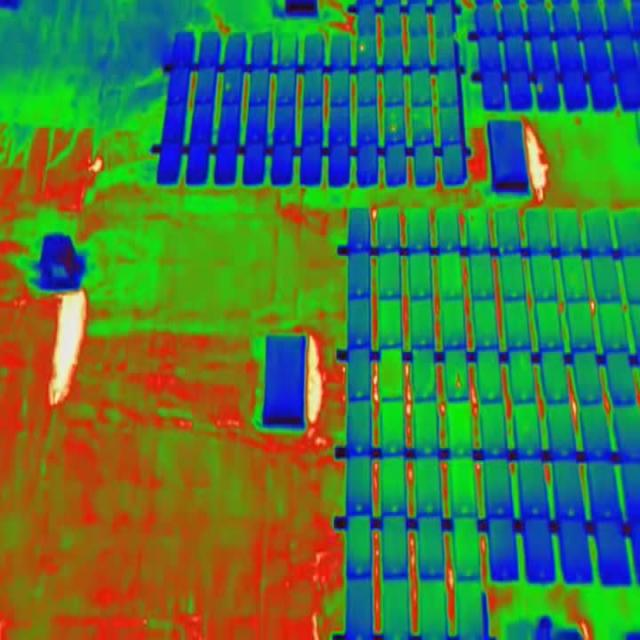Orange-Spots: (456, 371, 462, 390), (359, 43, 366, 52), (537, 84, 542, 92), (391, 126, 396, 133)
